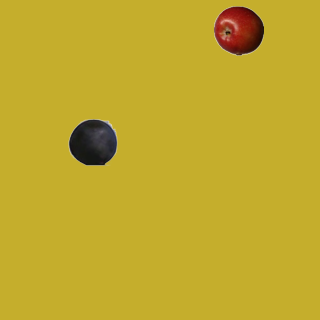Apple Braeburn: (213, 5, 263, 55)
Grape Blue: (67, 116, 117, 166)
